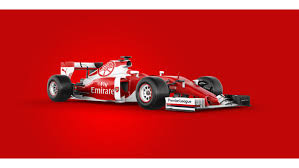f1_car: (43, 50, 262, 120)
